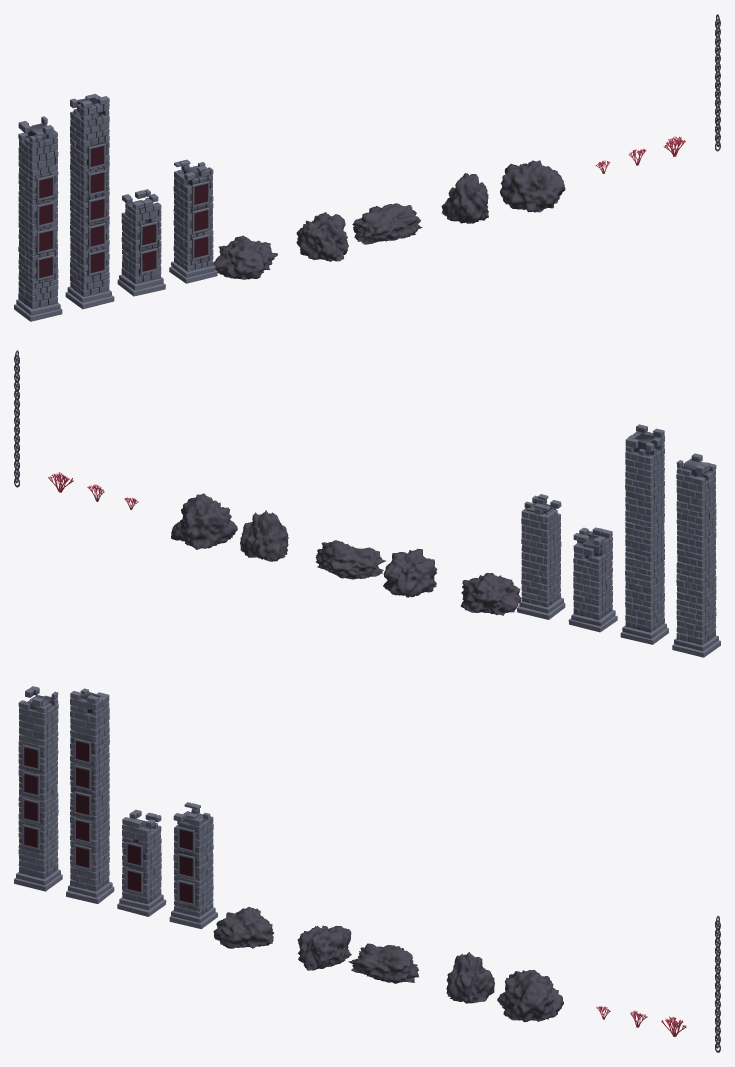
File: kit.glb
3 views of the same model, one above another, from view 1: azimuth 30°, elevation 25°; view 2: azimuth 150°, elevation 25°; view 3: azimuth 330°, elevation 25° (orthographic).
Parts seen in each view (by area): view 1: pillar_b, pillar_a, pillar_d, pillar_c, rock_4, rock_2, rock_1, rock_0, rock_3, chain; view 2: pillar_b, pillar_a, pillar_d, pillar_c, rock_4, rock_1, rock_0, rock_2, rock_3, chain; view 3: pillar_b, pillar_a, pillar_d, pillar_c, rock_4, rock_2, rock_1, rock_0, rock_3, chain.
Part boxes in pixels (<box>): pillar_b: <box>65,93,114,309</box>; pillar_a: <box>14,116,62,321</box>; pillar_d: <box>169,159,217,283</box>; pillar_c: <box>117,189,165,296</box>; rock_4: <box>500,160,565,212</box>; rock_2: <box>352,203,422,244</box>; rock_1: <box>296,212,348,261</box>; rock_0: <box>213,235,277,279</box>; rock_3: <box>441,173,488,223</box>; chain: <box>715,14,720,151</box>; pillar_b: <box>620,424,668,644</box>; pillar_a: <box>672,453,720,657</box>; pillar_d: <box>517,494,565,619</box>; pillar_c: <box>568,527,617,632</box>; rock_4: <box>171,493,237,549</box>; rock_1: <box>383,549,437,597</box>; rock_0: <box>460,573,521,615</box>; rock_2: <box>315,540,385,579</box>; rock_3: <box>240,510,288,561</box>; chain: <box>14,350,19,487</box>; pillar_b: <box>66,688,114,903</box>; pillar_a: <box>14,686,62,891</box>; pillar_d: <box>169,802,217,929</box>; pillar_c: <box>117,809,166,916</box>; rock_4: <box>497,970,563,1022</box>; rock_2: <box>348,943,418,983</box>; rock_1: <box>297,925,351,970</box>; rock_0: <box>213,907,273,948</box>; rock_3: <box>446,952,494,1003</box>; chain: <box>715,915,720,1052</box>.
Bounding box in the file's own units: 29.2 × 8.58 × 2.5.
